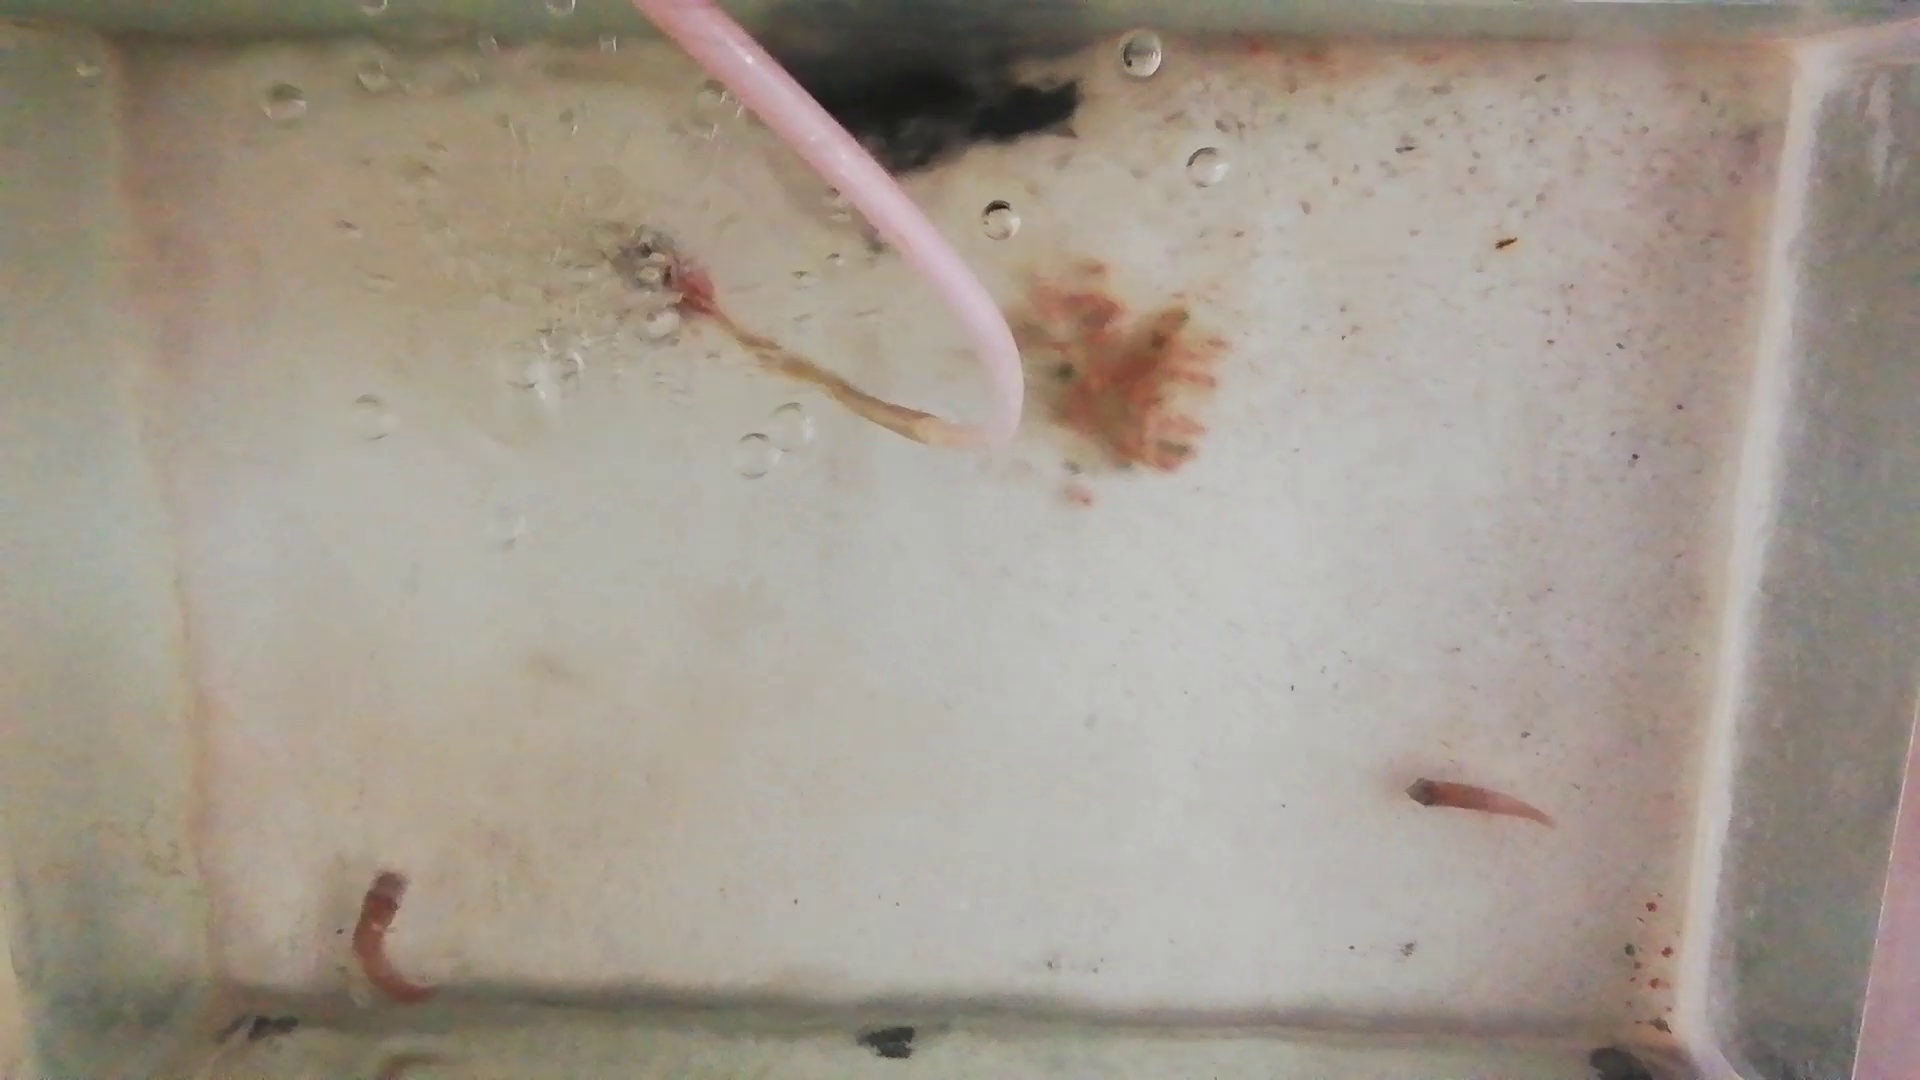fish: (355, 872, 436, 1004), (1403, 775, 1548, 822)
